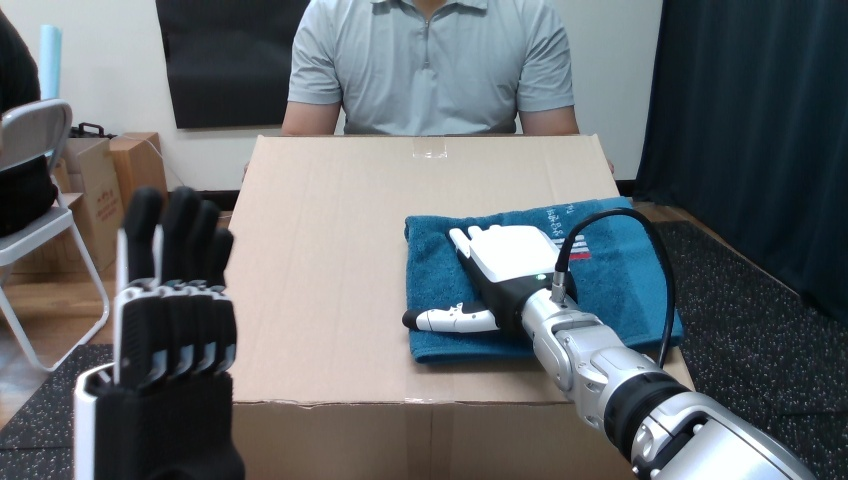left robot hand: (402, 207, 813, 479), (74, 187, 243, 478), (568, 216, 666, 362)
